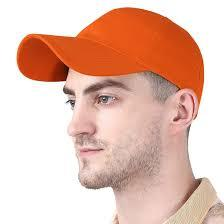cap: (14, 5, 208, 107)
